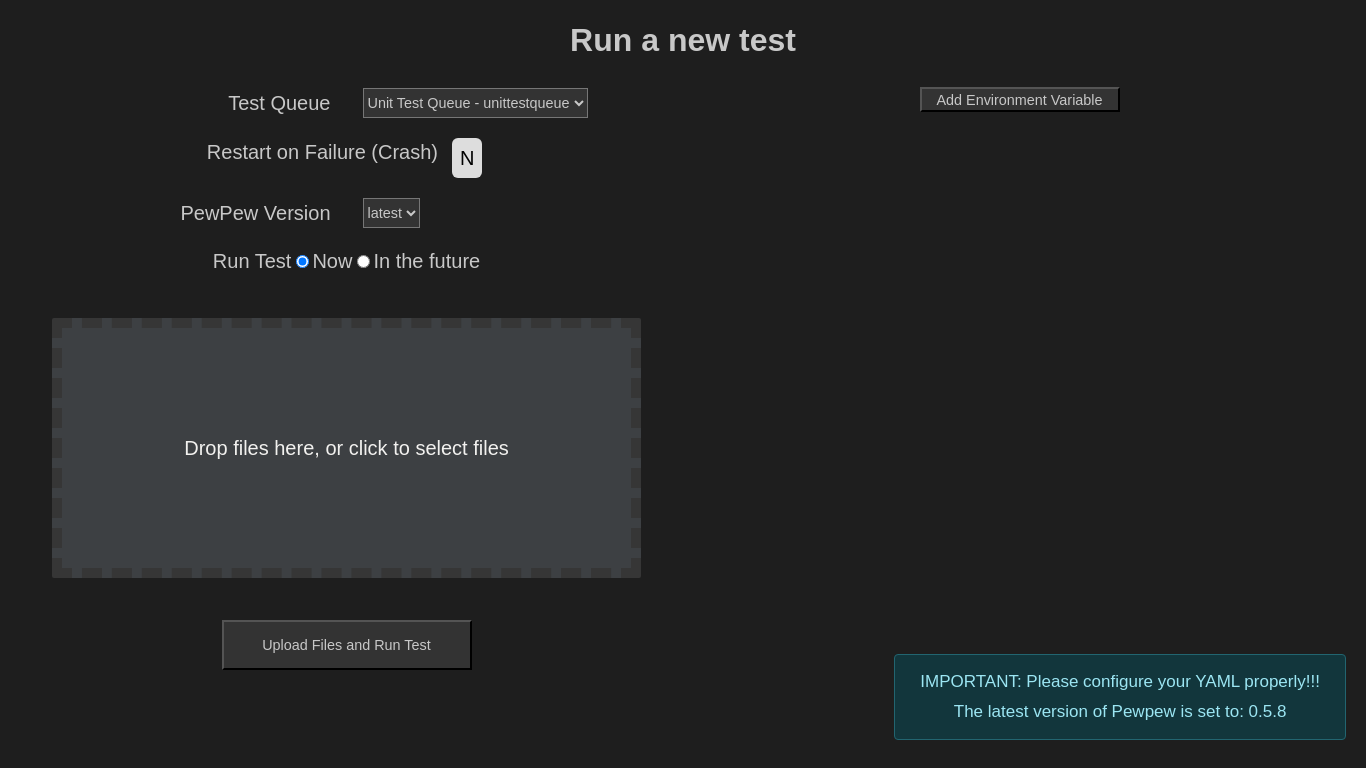
StartTestForm Component › shows validation error when submitted without a yaml file
The width and height of the screenshot is (1366, 768).
Click the button with test id "submit-test-button" at coordinates (346, 645), box x1=222 y1=620 x2=472 y2=670
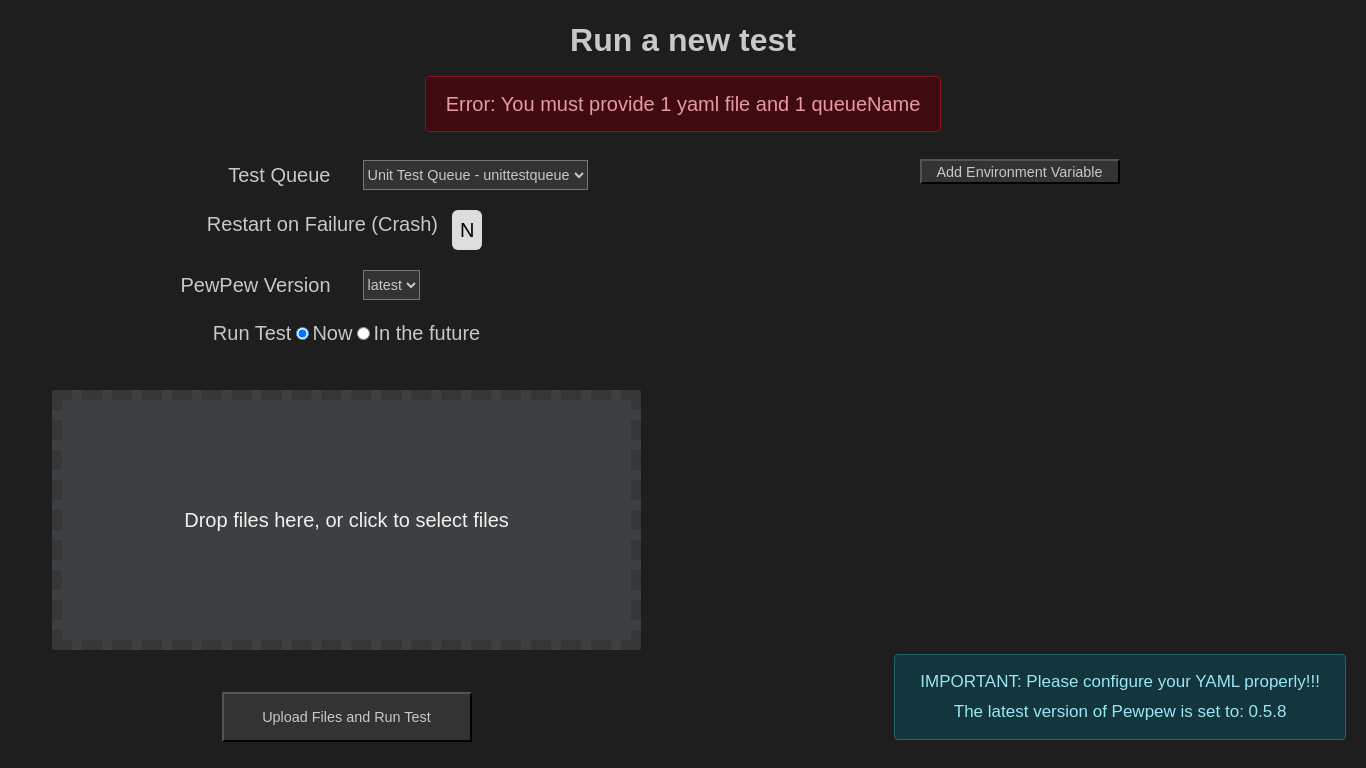
Check: the text "Error: You must provide 1 yaml file and 1 queueName" is shown, box x1=425 y1=76 x2=941 y2=132
